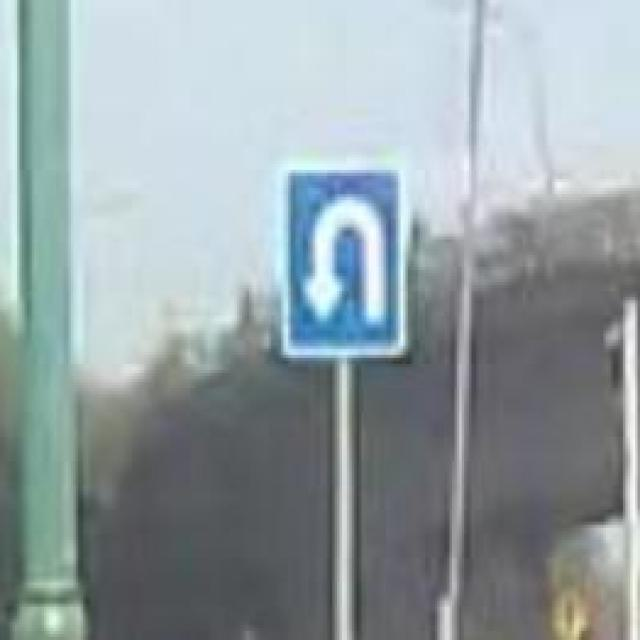U-turn: (280, 163, 407, 358)
